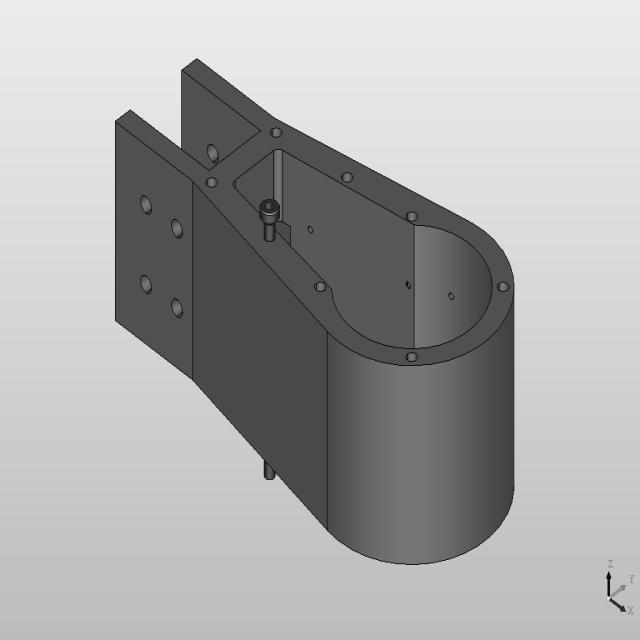screw: (254, 192, 283, 248)
